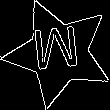M_S: (33, 26, 85, 81)
